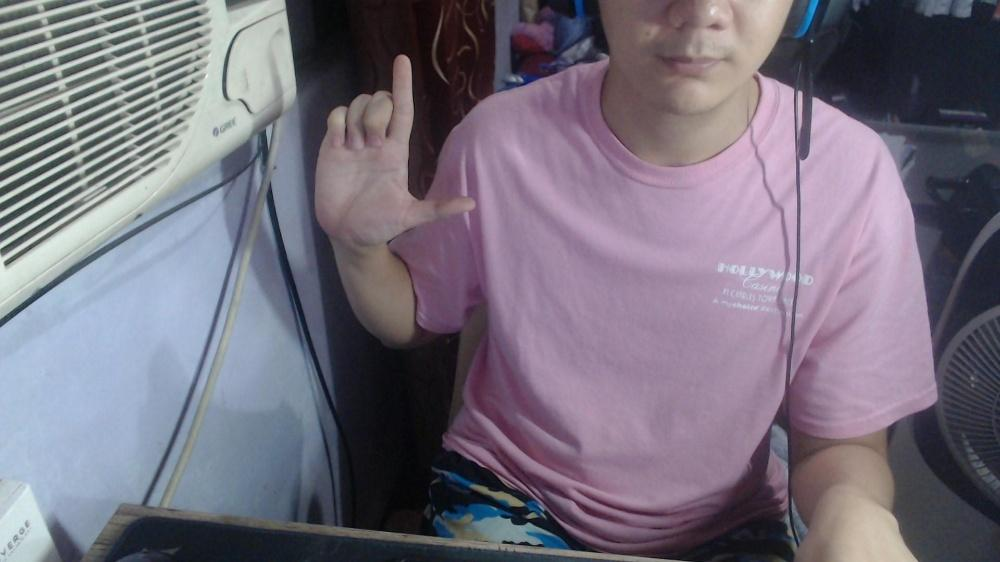l: (309, 51, 478, 247)
